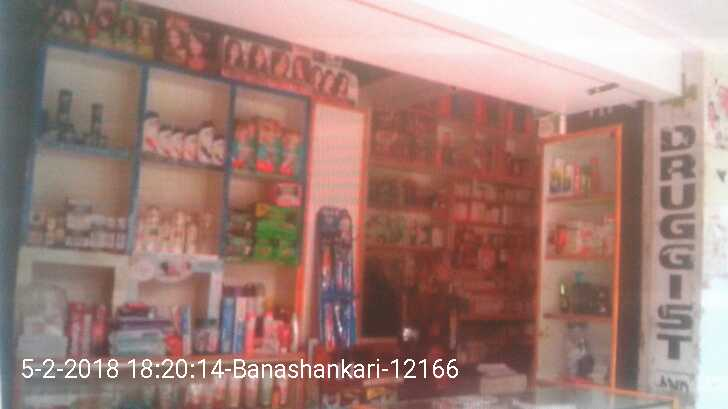beauty: (144, 202, 162, 250), (144, 110, 162, 156), (198, 119, 214, 167), (169, 208, 183, 255), (211, 132, 227, 165), (158, 123, 172, 157), (172, 123, 184, 161), (184, 132, 197, 164)
pharmacy: (255, 204, 299, 242), (256, 114, 283, 174), (230, 117, 255, 171), (281, 125, 306, 176), (256, 239, 300, 263), (333, 297, 346, 360), (225, 207, 253, 236), (273, 181, 303, 208), (223, 233, 250, 258), (321, 236, 332, 292), (333, 242, 344, 294)
